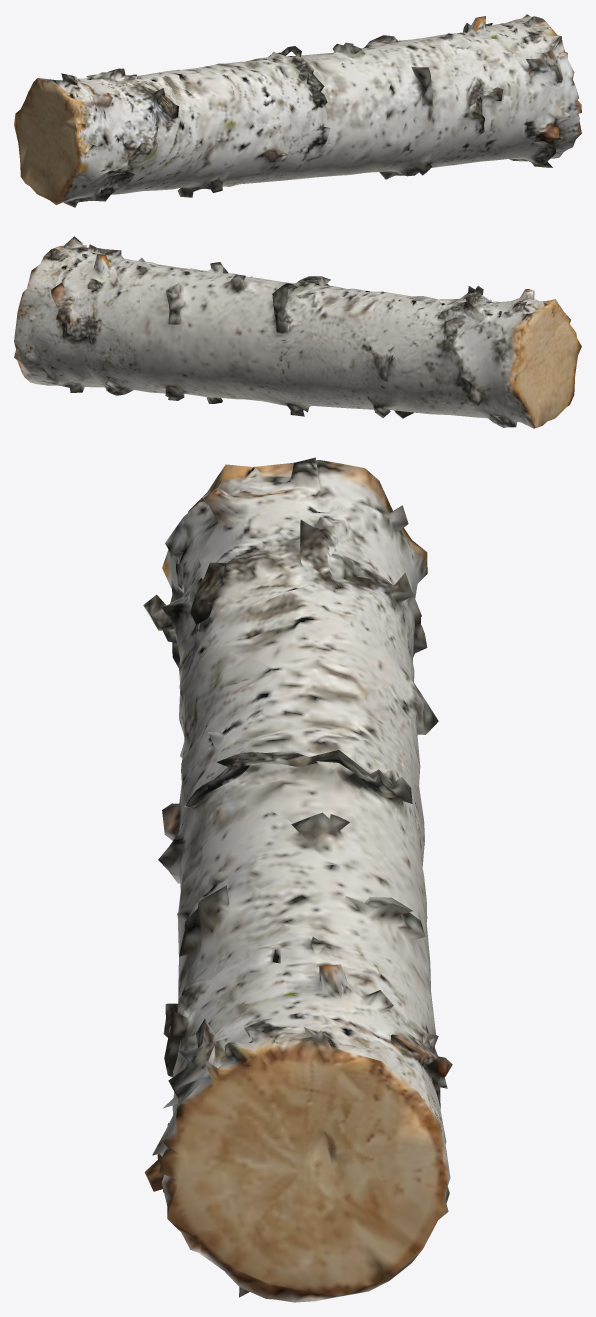
The model's file is log.38825d8e29.glb.
The picture shows the model from 3 angles, top to bottom: view 1: azimuth 30°, elevation 25°; view 2: azimuth 150°, elevation 25°; view 3: azimuth 270°, elevation 25°; orthographic projection. The views are drawn at different scales.
Visible parts, largest first — view 1: log; view 2: log; view 3: log.
Part boxes in pixels (<box>): log: <box>14,14,581,207</box>; log: <box>14,236,581,428</box>; log: <box>143,457,452,1302</box>.
Bounding box in the file's own units: 1.6 × 0.5846 × 0.4253.
Materials: 1 (1 with a texture image).
